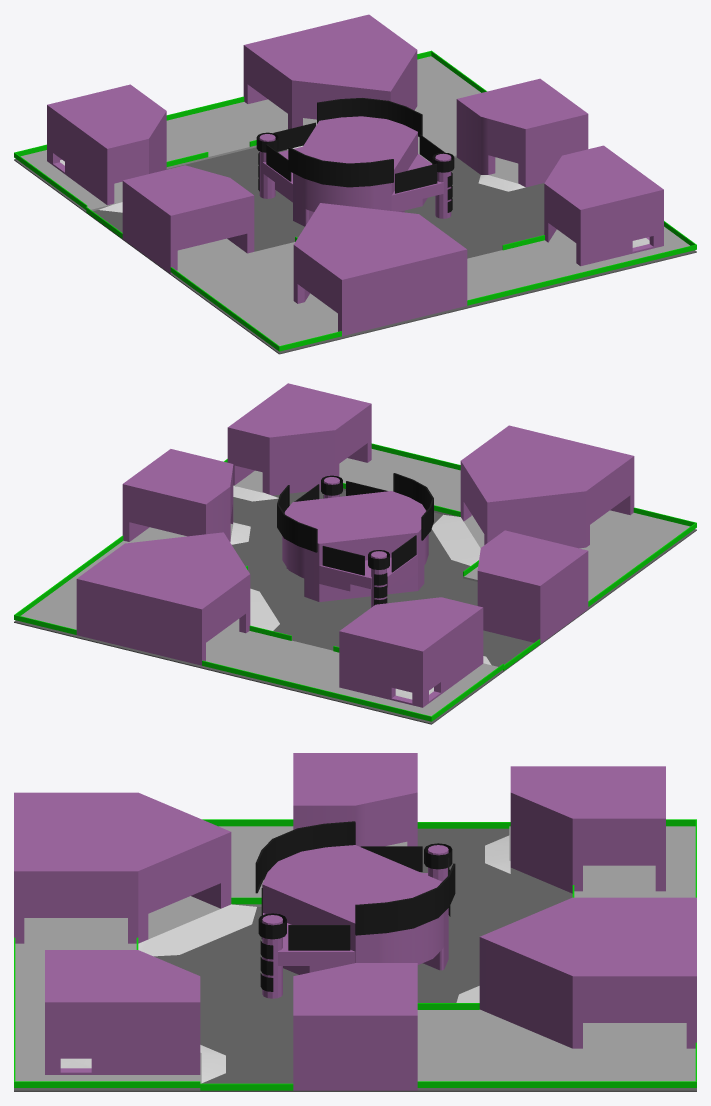
File: arena04_r002.fbx
The picture shows the model from 3 angles, top to bottom: view 1: azimuth 30°, elevation 25°; view 2: azimuth 150°, elevation 25°; view 3: azimuth 270°, elevation 25°; orthographic projection. The views are drawn at different scales.
Parts seen in each view (by area): view 1: top_building1 (×2), top_floor (×2), top_building (×2), top_building2 (×2), floor, middle_building, middle_billboard, rail (×2), tower_connection_building (×2), billboard4 (×2), tower (×2), rail4; view 2: top_building1 (×2), top_building (×2), top_floor (×2), top_building2 (×2), floor, middle_building, ramp1 (×2), middle_billboard, rail (×2), tower_connection_building, rail4 (×2), billboard4 (+1 smaller); view 3: top_building1 (×2), top_building (×2), top_floor (×2), top_building2 (×2), floor, middle_building, middle_billboard, ramp1, rail4 (×2), billboard5 (×2), tower_connection_building, ramp3 (×2) (+4 smaller).
Boxes of the visible parts, x1,y1,x2,y2 form: top_building1 (×2): (243,14,467,336); top_floor (×2): (21,56,689,345); top_building (×2): (47,84,663,266); top_building2 (×2): (122,78,588,273); floor: (14,147,696,354); middle_building: (293,116,417,226); middle_billboard: (288,98,422,187); rail (×2): (14,96,696,305); tower_connection_building (×2): (262,146,443,211); billboard4 (×2): (273,122,437,193); tower (×2): (259,134,451,218); rail4: (170,267,280,351); top_building1 (×2): (76,425,634,665); top_building (×2): (227,383,483,707); top_floor (×2): (21,449,690,716); top_building2 (×2): (122,449,588,643); floor: (14,490,696,724); middle_building: (282,491,428,601); ramp1 (×2): (250,514,480,630); middle_billboard: (277,473,433,552); rail (×2): (202,443,460,721); tower_connection_building: (319,554,417,591); rail4 (×2): (14,523,696,619); billboard4: (322,546,364,575); top_building1 (×2): (14,792,696,1048); top_building (×2): (45,766,665,1074); top_floor (×2): (15,826,695,1083); top_building2 (×2): (293,753,417,1090); floor: (14,828,696,1091); middle_building: (262,845,448,974); middle_billboard: (255,821,455,935); ramp1: (138,904,256,956); rail4 (×2): (202,819,696,1087); billboard5 (×2): (288,846,422,950); tower_connection_building: (263,913,355,973); ramp3 (×2): (200,835,510,1082).
Size of the model in its own units: 450 by 77.69 by 495.
